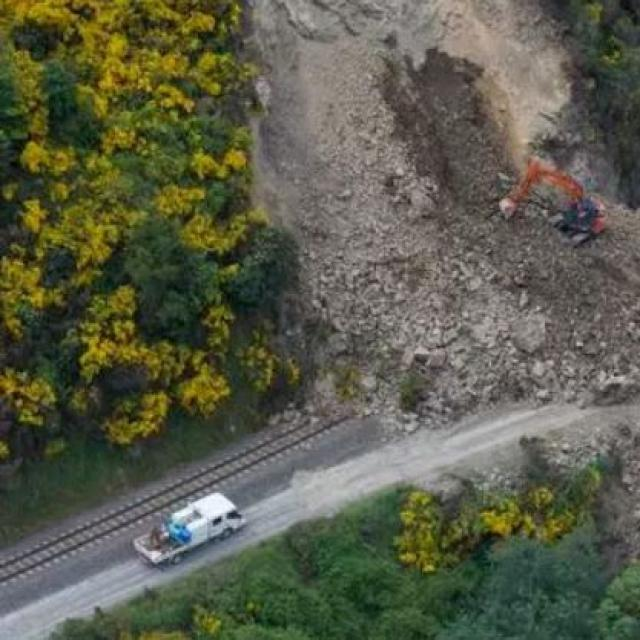traffic_incident: (401, 36, 638, 328)
